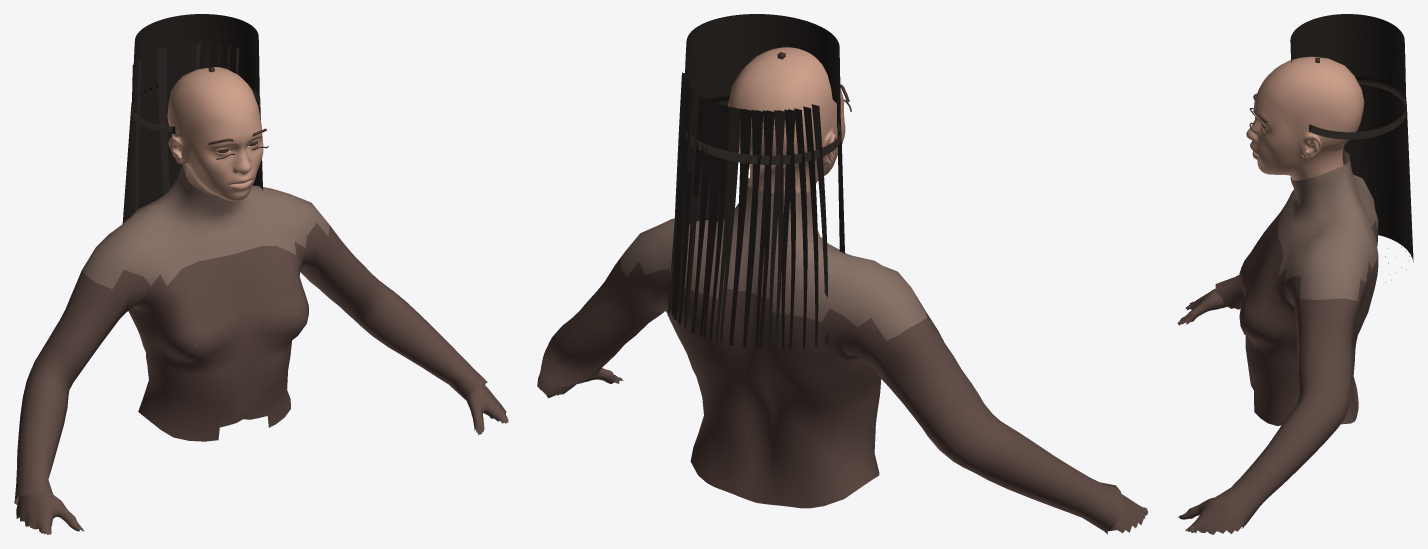
The model's file is avatar_V003_verifica_20261031.glb.
The picture shows the model from 3 angles, left to right: view 1: azimuth 30°, elevation 25°; view 2: azimuth 150°, elevation 25°; view 3: azimuth 270°, elevation 25°; orthographic projection. The views are drawn at different scales.
Visible parts, largest first — view 1: ARCHIVISTA_NUOVO_RIFERIMENTO_V49, V50_Hair_mass, V50_Hair_layer_1_8, V50_Hair_layer_1_9, V50_Hair_layer_1_13, V50_Hair_layer_1_10, V50_Hair_layer_1_11; view 2: ARCHIVISTA_NUOVO_RIFERIMENTO_V49, V50_Hair_mass, V50_Hair_layer_-1_2, V50_Hair_layer_-1_1, V50_Hair_layer_-1_7, V50_Hair_layer_1_7, V50_Hair_layer_-1_8, V50_Hair_layer_1_13, V50_Hair_layer_-1_0, V50_Hair_layer_-1_10, V50_Hair_layer_-1_4, V50_Hair_layer_-1_3 (+13 smaller); view 3: ARCHIVISTA_NUOVO_RIFERIMENTO_V49, V50_Hair_mass.
Part boxes in pixels (x1,y1,x2,y2): ARCHIVISTA_NUOVO_RIFERIMENTO_V49: (14, 67, 508, 534); V50_Hair_mass: (122, 14, 263, 223); V50_Hair_layer_1_8: (158, 48, 166, 195); V50_Hair_layer_1_9: (151, 50, 158, 200); V50_Hair_layer_1_13: (130, 63, 138, 216); V50_Hair_layer_1_10: (144, 53, 150, 204); V50_Hair_layer_1_11: (139, 56, 145, 207); ARCHIVISTA_NUOVO_RIFERIMENTO_V49: (537, 47, 1148, 534); V50_Hair_mass: (667, 14, 844, 315); V50_Hair_layer_-1_2: (794, 108, 807, 348); V50_Hair_layer_-1_1: (803, 106, 818, 346); V50_Hair_layer_-1_7: (729, 108, 747, 345); V50_Hair_layer_1_7: (709, 105, 729, 339); V50_Hair_layer_-1_8: (715, 107, 736, 341); V50_Hair_layer_1_13: (781, 109, 795, 349); V50_Hair_layer_-1_0: (811, 104, 827, 343); V50_Hair_layer_-1_10: (692, 100, 715, 333); V50_Hair_layer_-1_4: (774, 110, 783, 350); V50_Hair_layer_-1_3: (784, 109, 795, 349); ARCHIVISTA_NUOVO_RIFERIMENTO_V49: (1177, 56, 1378, 534); V50_Hair_mass: (1290, 14, 1413, 262).
Size of the model in its own units: 0.9237 by 0.7055 by 0.3969.
